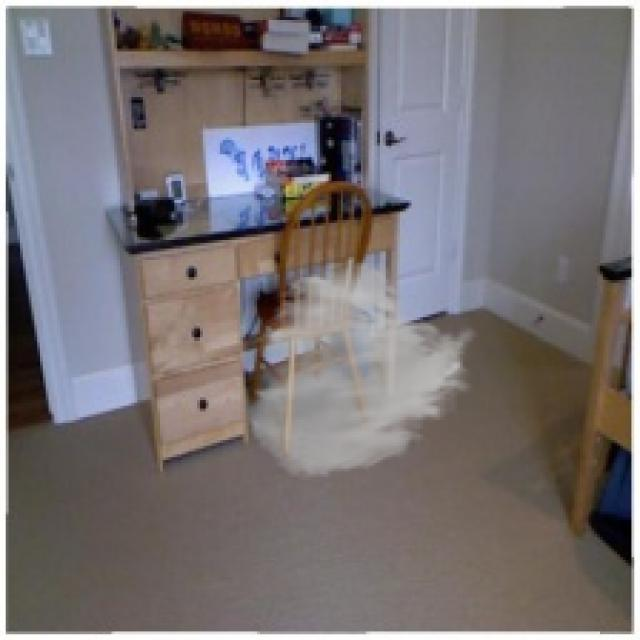smoke: (243, 257, 480, 480)
